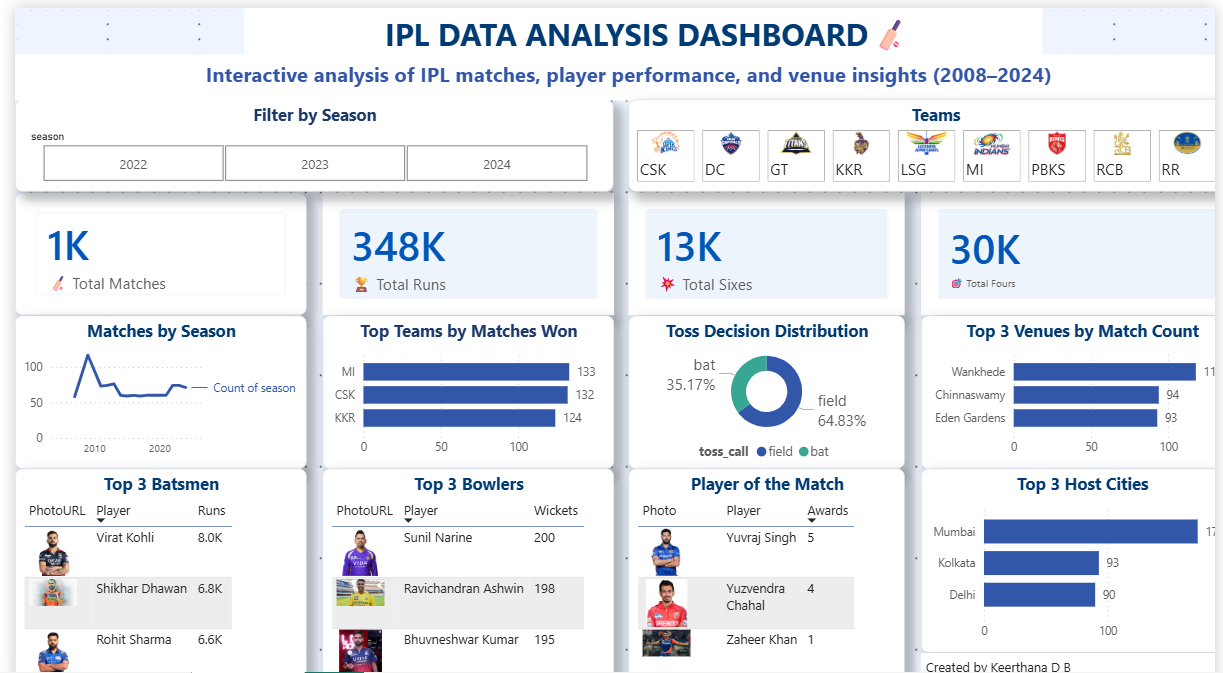

The dashboard page shown, as its layout file describes it:
{"tool":"powerbi","page":{"name":"Page 1","canvas":[1280,720],"ordinal":0},"visuals":[{"type":"cardVisual","fields":{"Data":["deliveries.Total Matches"]},"box":[0,192,304,128],"z":0},{"type":"cardVisual","fields":{"Data":["deliveries.Total Fours"]},"box":[944,192,336,128],"z":1000},{"type":"cardVisual","fields":{"Data":["deliveries.Total Runs"]},"box":[320,192,304,128],"z":2000},{"type":"cardVisual","fields":{"Data":["deliveries.Total Sixes"]},"box":[640,192,288,128],"z":3000},{"type":"clusteredBarChart","title":"Top Teams by Matches Won","fields":{"Category":["matches.winner"],"Y":["CountNonNull(matches.id)"]},"box":[320,320,304,160],"z":4000},{"type":"slicer","title":"Filter by Season","fields":{"Values":["matches.season"]},"box":[0,96,624,96],"z":5000},{"type":"lineChart","title":"Matches by Season ","fields":{"Category":["matches.season"],"Y":["CountNonNull(matches.season)"]},"box":[0,320,304,160],"z":6000},{"type":"textbox","box":[240,0,832,64],"z":7000},{"type":"textbox","box":[0,48,1280,48],"z":8000},{"type":"donutChart","title":"Toss Decision Distribution","fields":{"Category":["matches.toss_decision"],"Y":["CountNonNull(matches.toss_decision)"]},"box":[640,320,288,160],"z":9000},{"type":"advancedSlicerVisual","title":"Teams","fields":{"Values":["TeamLogos.Team"]},"box":[640,96,640,96],"z":10000},{"type":"clusteredBarChart","title":"Top 3 Venues by Match Count","fields":{"Category":["matches.venue"],"Y":["CountNonNull(matches.id)"]},"box":[944,320,336,160],"z":11000},{"type":"tableEx","title":"Top 3 Batsmen","fields":{"Values":["PlayerPhotos.PhotoURL","PlayerPhotos.Player","PlayerPhotos.Stat"]},"box":[0,480,304,240],"z":12000},{"type":"tableEx","title":"Top 3 Bowlers","fields":{"Values":["PlayerPhotos.PhotoURL","PlayerPhotos.Player","PlayerPhotos.Stat"]},"box":[320,480,304,240],"z":13000},{"type":"tableEx","title":"Player of the Match","fields":{"Values":["PlayerPhotos.PhotoURL","PlayerPhotos.Player","PlayerPhotos.Stat"]},"box":[640,480,288,240],"z":14000},{"type":"clusteredBarChart","title":"Top 3 Host Cities","fields":{"Category":["matches.city"],"Y":["CountNonNull(matches.id)"]},"box":[944,480,336,192],"z":15000},{"type":"textbox","box":[944,672,336,48],"z":16000}]}

Visuals, with their boxes in screenshot pixels (x1, y1, x2, y2), scaled from the page's 1280x720 canvas onto the 1223x673 screenshot:
cardVisual - deliveries.Total Matches: 0,179,290,299
cardVisual - deliveries.Total Fours: 902,179,1222,299
cardVisual - deliveries.Total Runs: 306,179,596,299
cardVisual - deliveries.Total Sixes: 612,179,887,299
"Top Teams by Matches Won" clusteredBarChart: 306,299,596,449
"Filter by Season" slicer: 0,90,596,179
"Matches by Season " lineChart: 0,299,290,449
textbox: 229,0,1024,60
textbox: 0,45,1222,90
"Toss Decision Distribution" donutChart: 612,299,887,449
"Teams" advancedSlicerVisual: 612,90,1222,179
"Top 3 Venues by Match Count" clusteredBarChart: 902,299,1222,449
"Top 3 Batsmen" tableEx: 0,449,290,672
"Top 3 Bowlers" tableEx: 306,449,596,672
"Player of the Match" tableEx: 612,449,887,672
"Top 3 Host Cities" clusteredBarChart: 902,449,1222,628
textbox: 902,628,1222,672
